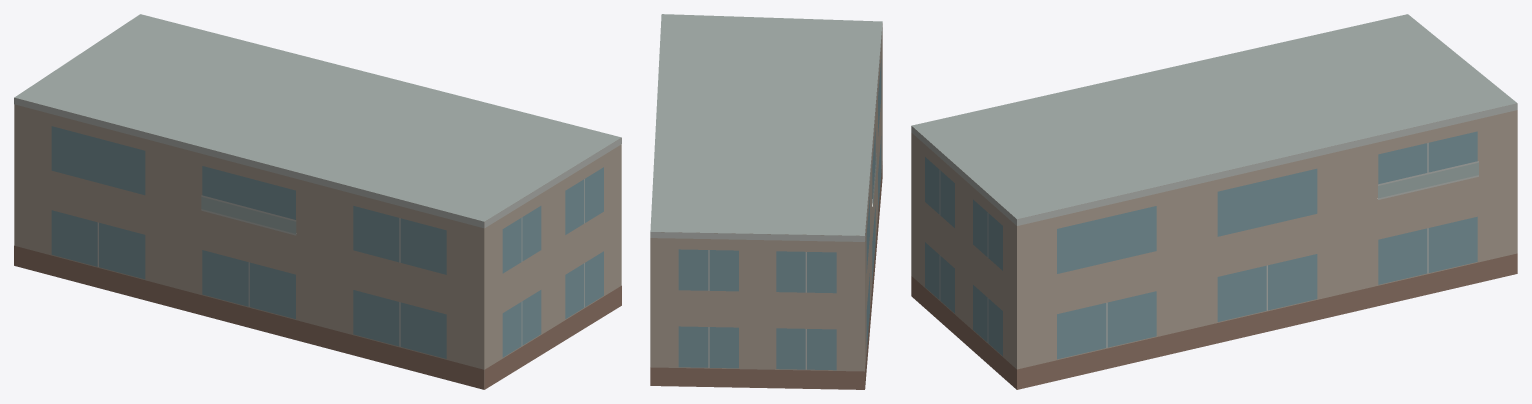
Rendered from survey-upis-32688391.glb.
3 views of the same model, side by side, from view 1: azimuth 30°, elevation 25°; view 2: azimuth 150°, elevation 25°; view 3: azimuth 270°, elevation 25° (orthographic). The views are drawn at different scales.
Parts seen in each view (by area): view 1: survey-upis-32688391.tmp; view 2: survey-upis-32688391.tmp; view 3: survey-upis-32688391.tmp.
Part boxes in pixels (bbox=[...]): survey-upis-32688391.tmp: bbox=[14, 14, 621, 389]; survey-upis-32688391.tmp: bbox=[650, 14, 882, 389]; survey-upis-32688391.tmp: bbox=[911, 14, 1517, 389].
Size of the model in its own units: 15.76 by 6.1 by 19.66.
